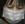with_mask: (2, 2, 25, 24)
